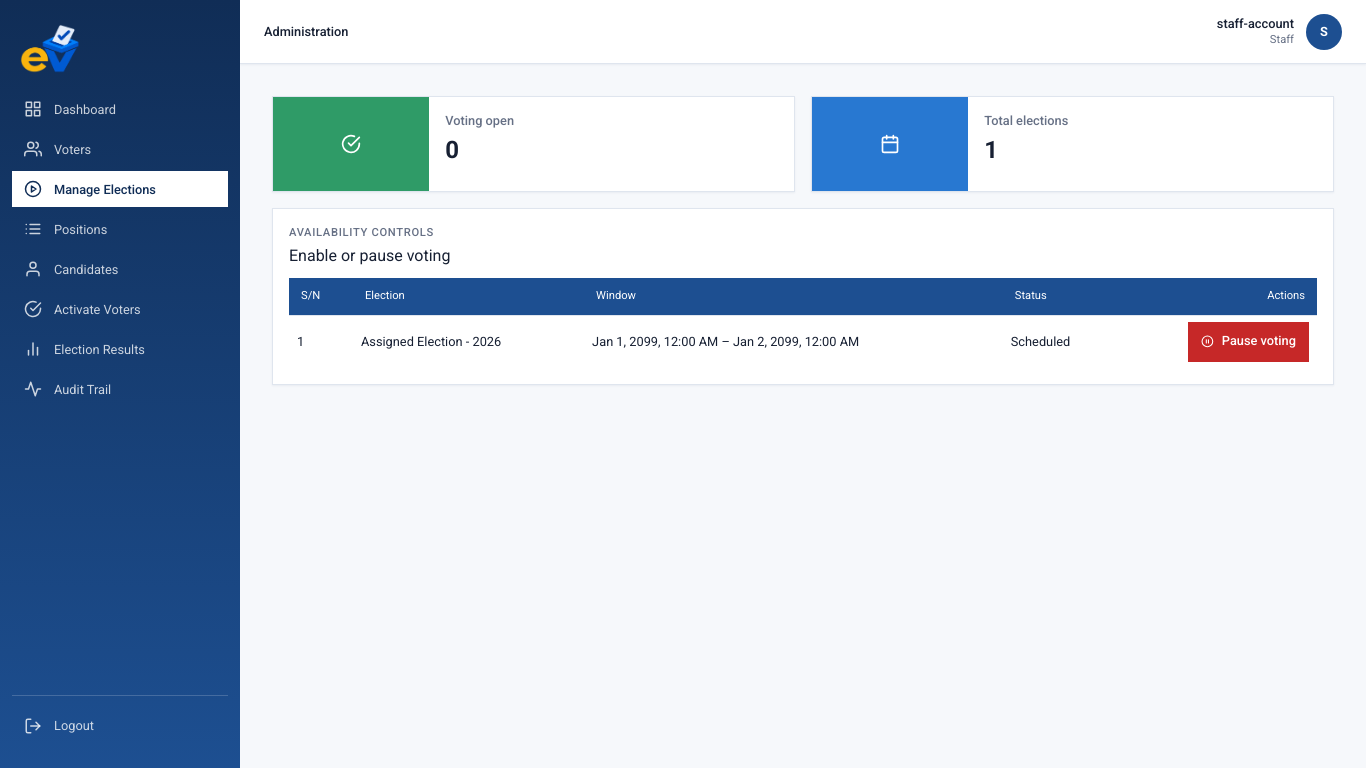
staff election workflows › pauses and enables voting only for the assigned election
Click the button "Pause voting". click: (1248, 342)
box: [1188,322,1309,362]
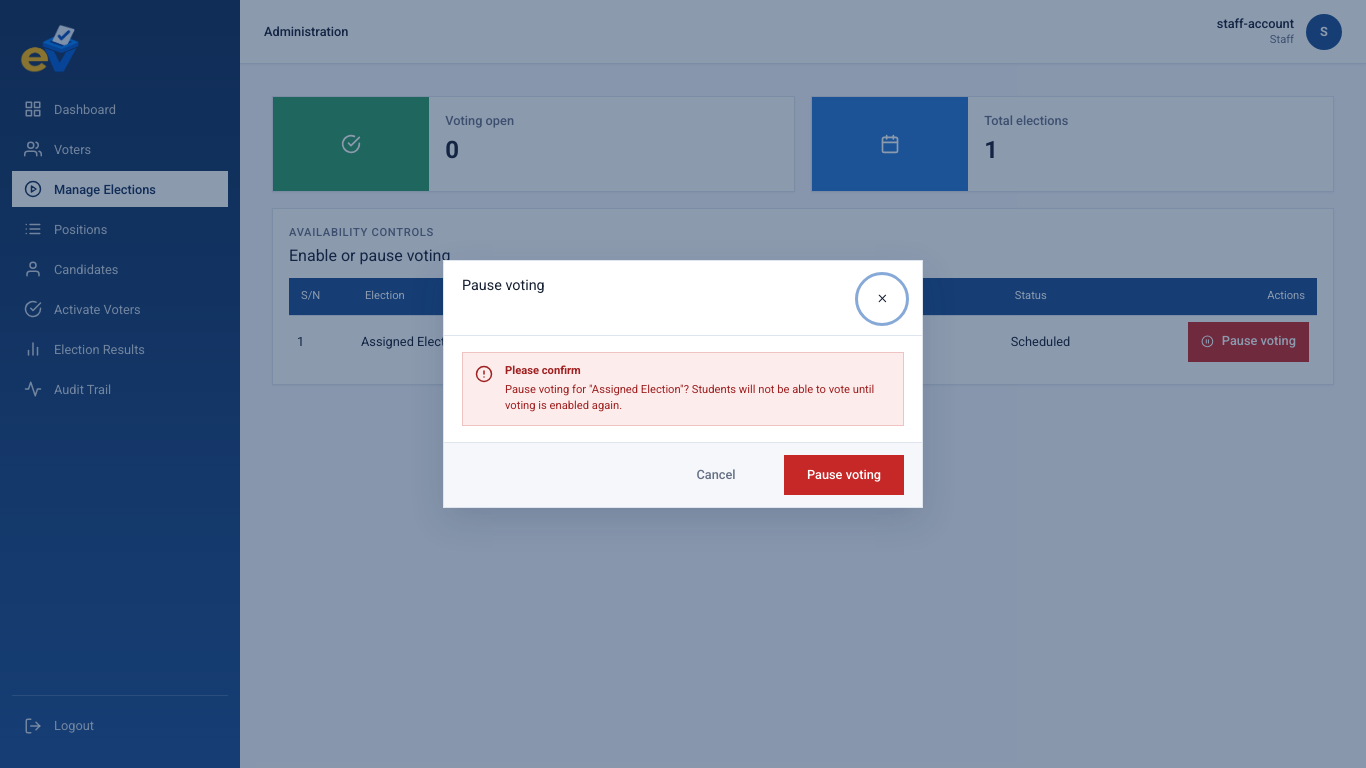
Click the button "Pause voting". click: (844, 475)
box: [784,455,904,495]
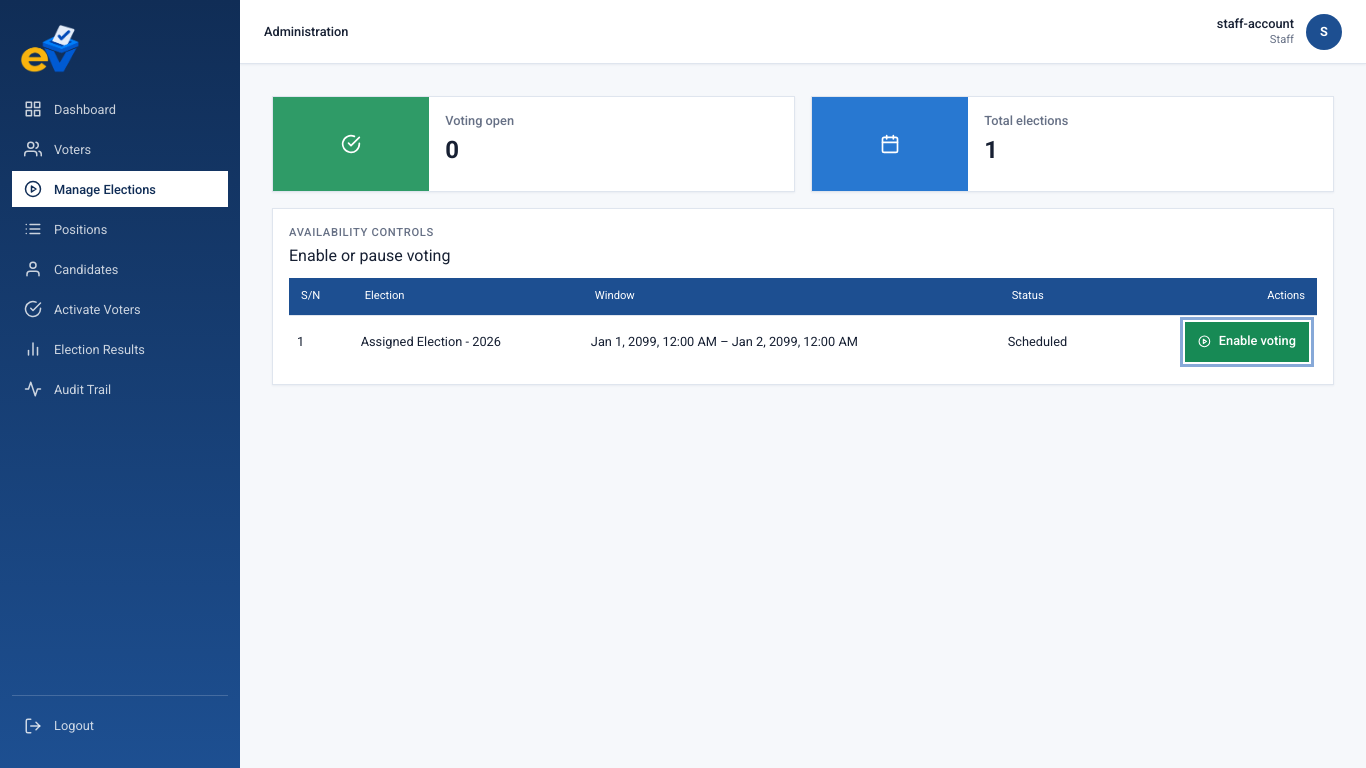
Check: the text "Scheduled" is shown, box [1008,334,1067,349]
Check: the dialog is gone
Click the button "Enable voting". click: (1247, 342)
box: [1185,322,1309,362]
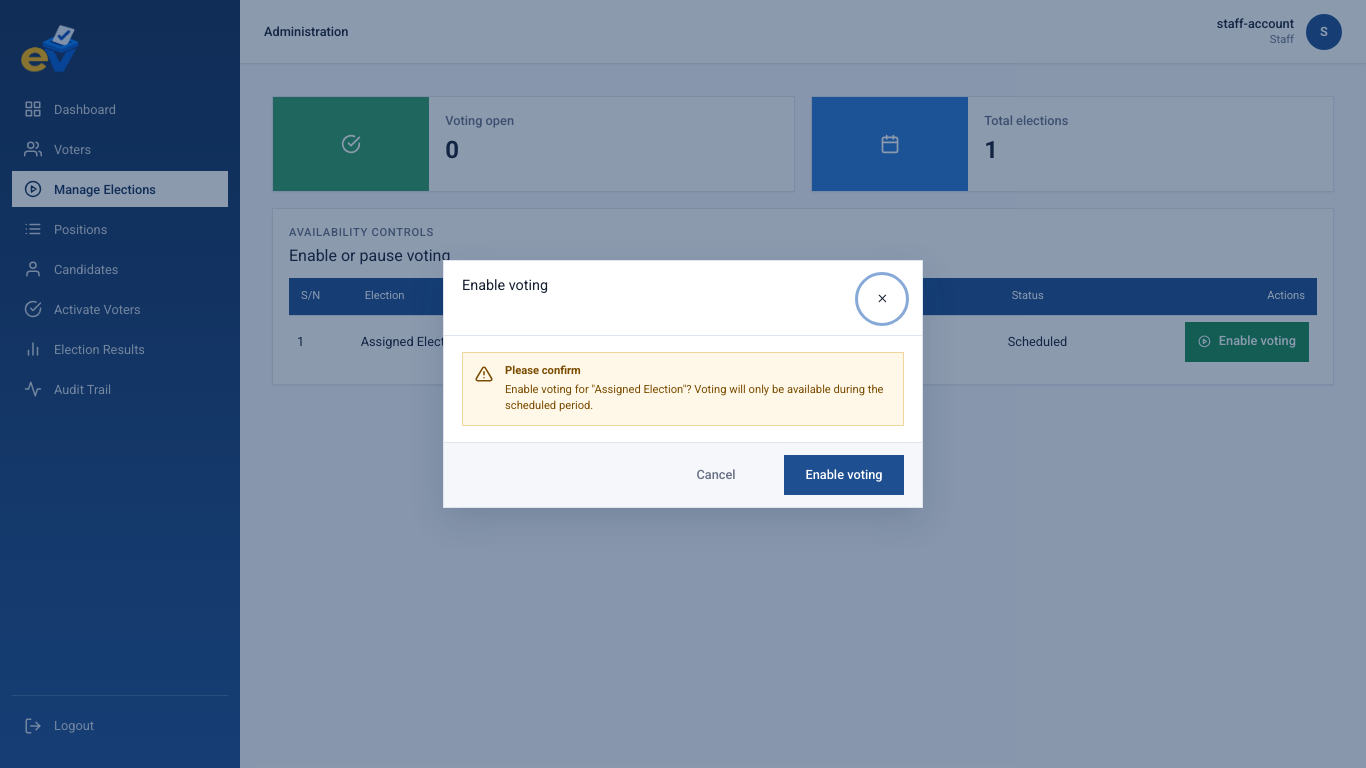
Click the button "Enable voting". click: (844, 475)
box: [784,455,904,495]
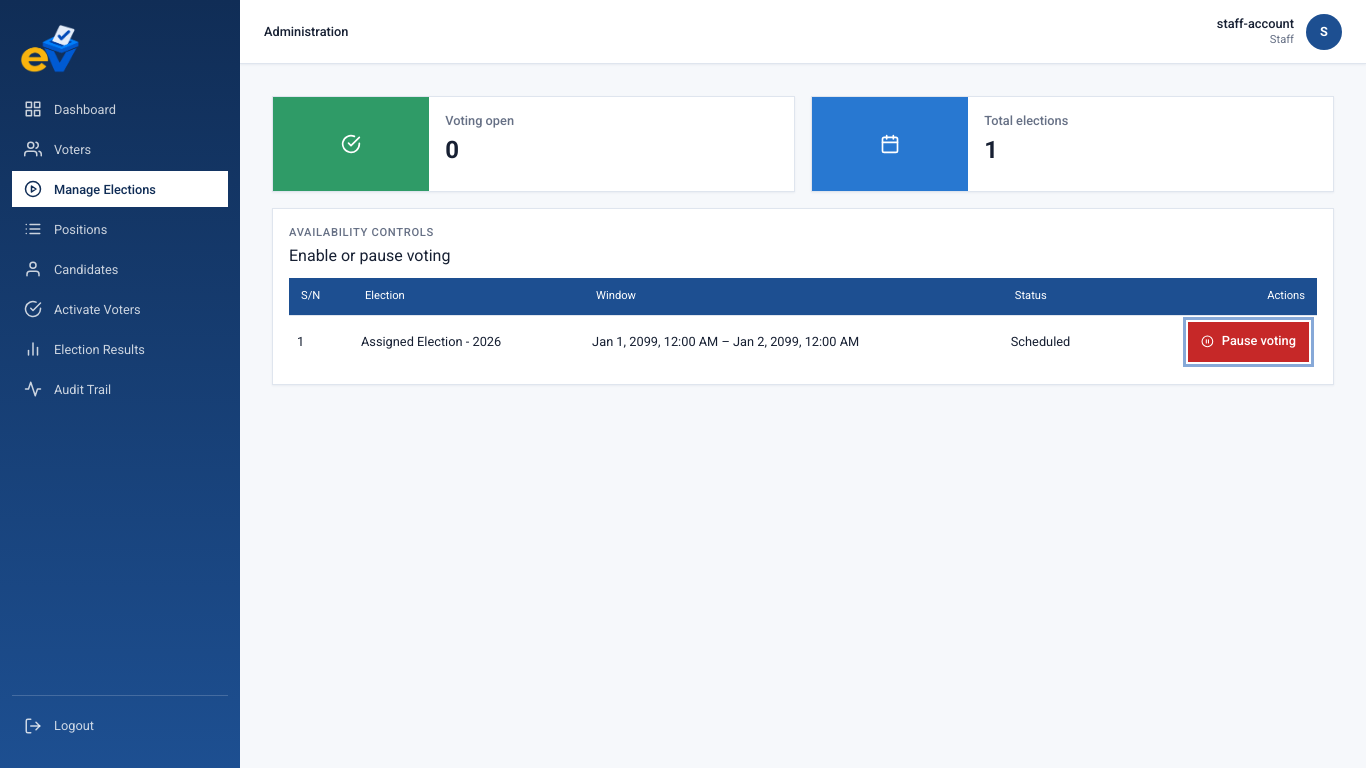
Check: the text "Scheduled" is shown, box [1011,334,1070,349]
Check: the dialog is gone
